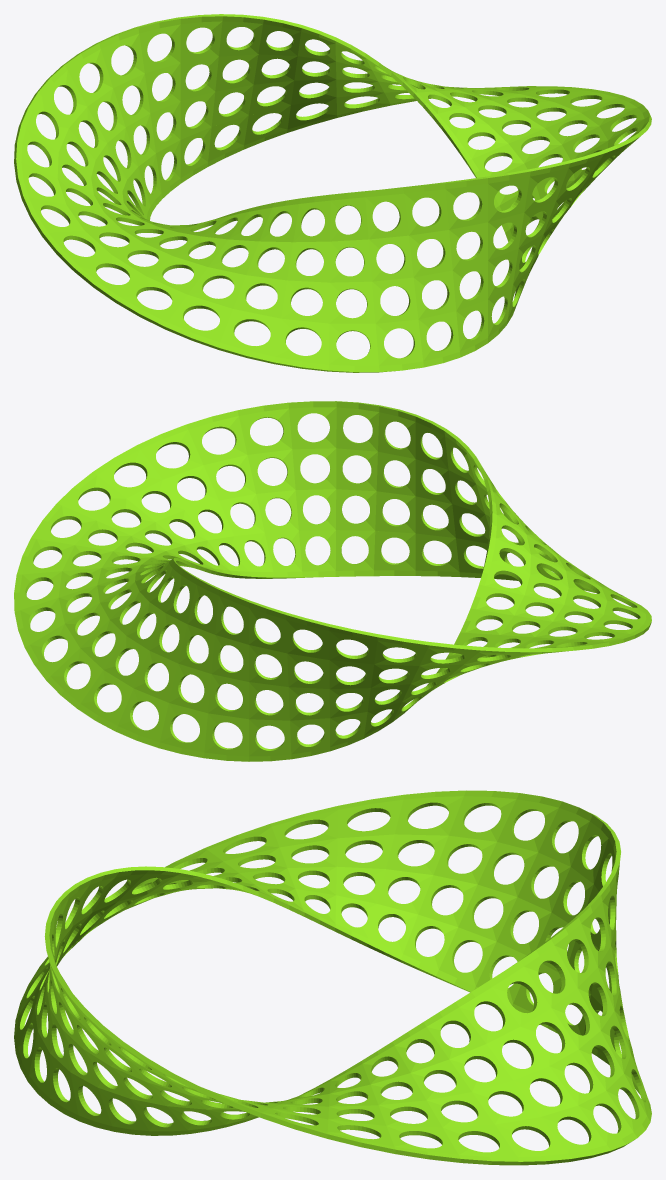
File: cinta_de_mobius.glb
3 views of the same model, one above another, from view 1: azimuth 30°, elevation 25°; view 2: azimuth 150°, elevation 25°; view 3: azimuth 270°, elevation 25° (orthographic). The views are drawn at different scales.
Parts seen in each view (by area): view 1: Object_2, Object_3; view 2: Object_2, Object_3; view 3: Object_2, Object_3.
Part boxes in pixels (x1,y1,x2,y2): Object_2: (14, 14, 651, 365); Object_3: (14, 158, 601, 372); Object_2: (14, 401, 646, 761); Object_3: (289, 407, 651, 673); Object_2: (17, 790, 651, 1165); Object_3: (14, 790, 465, 1125).
Bounding box in the file's own units: 31.4 × 8.58 × 25.72.
